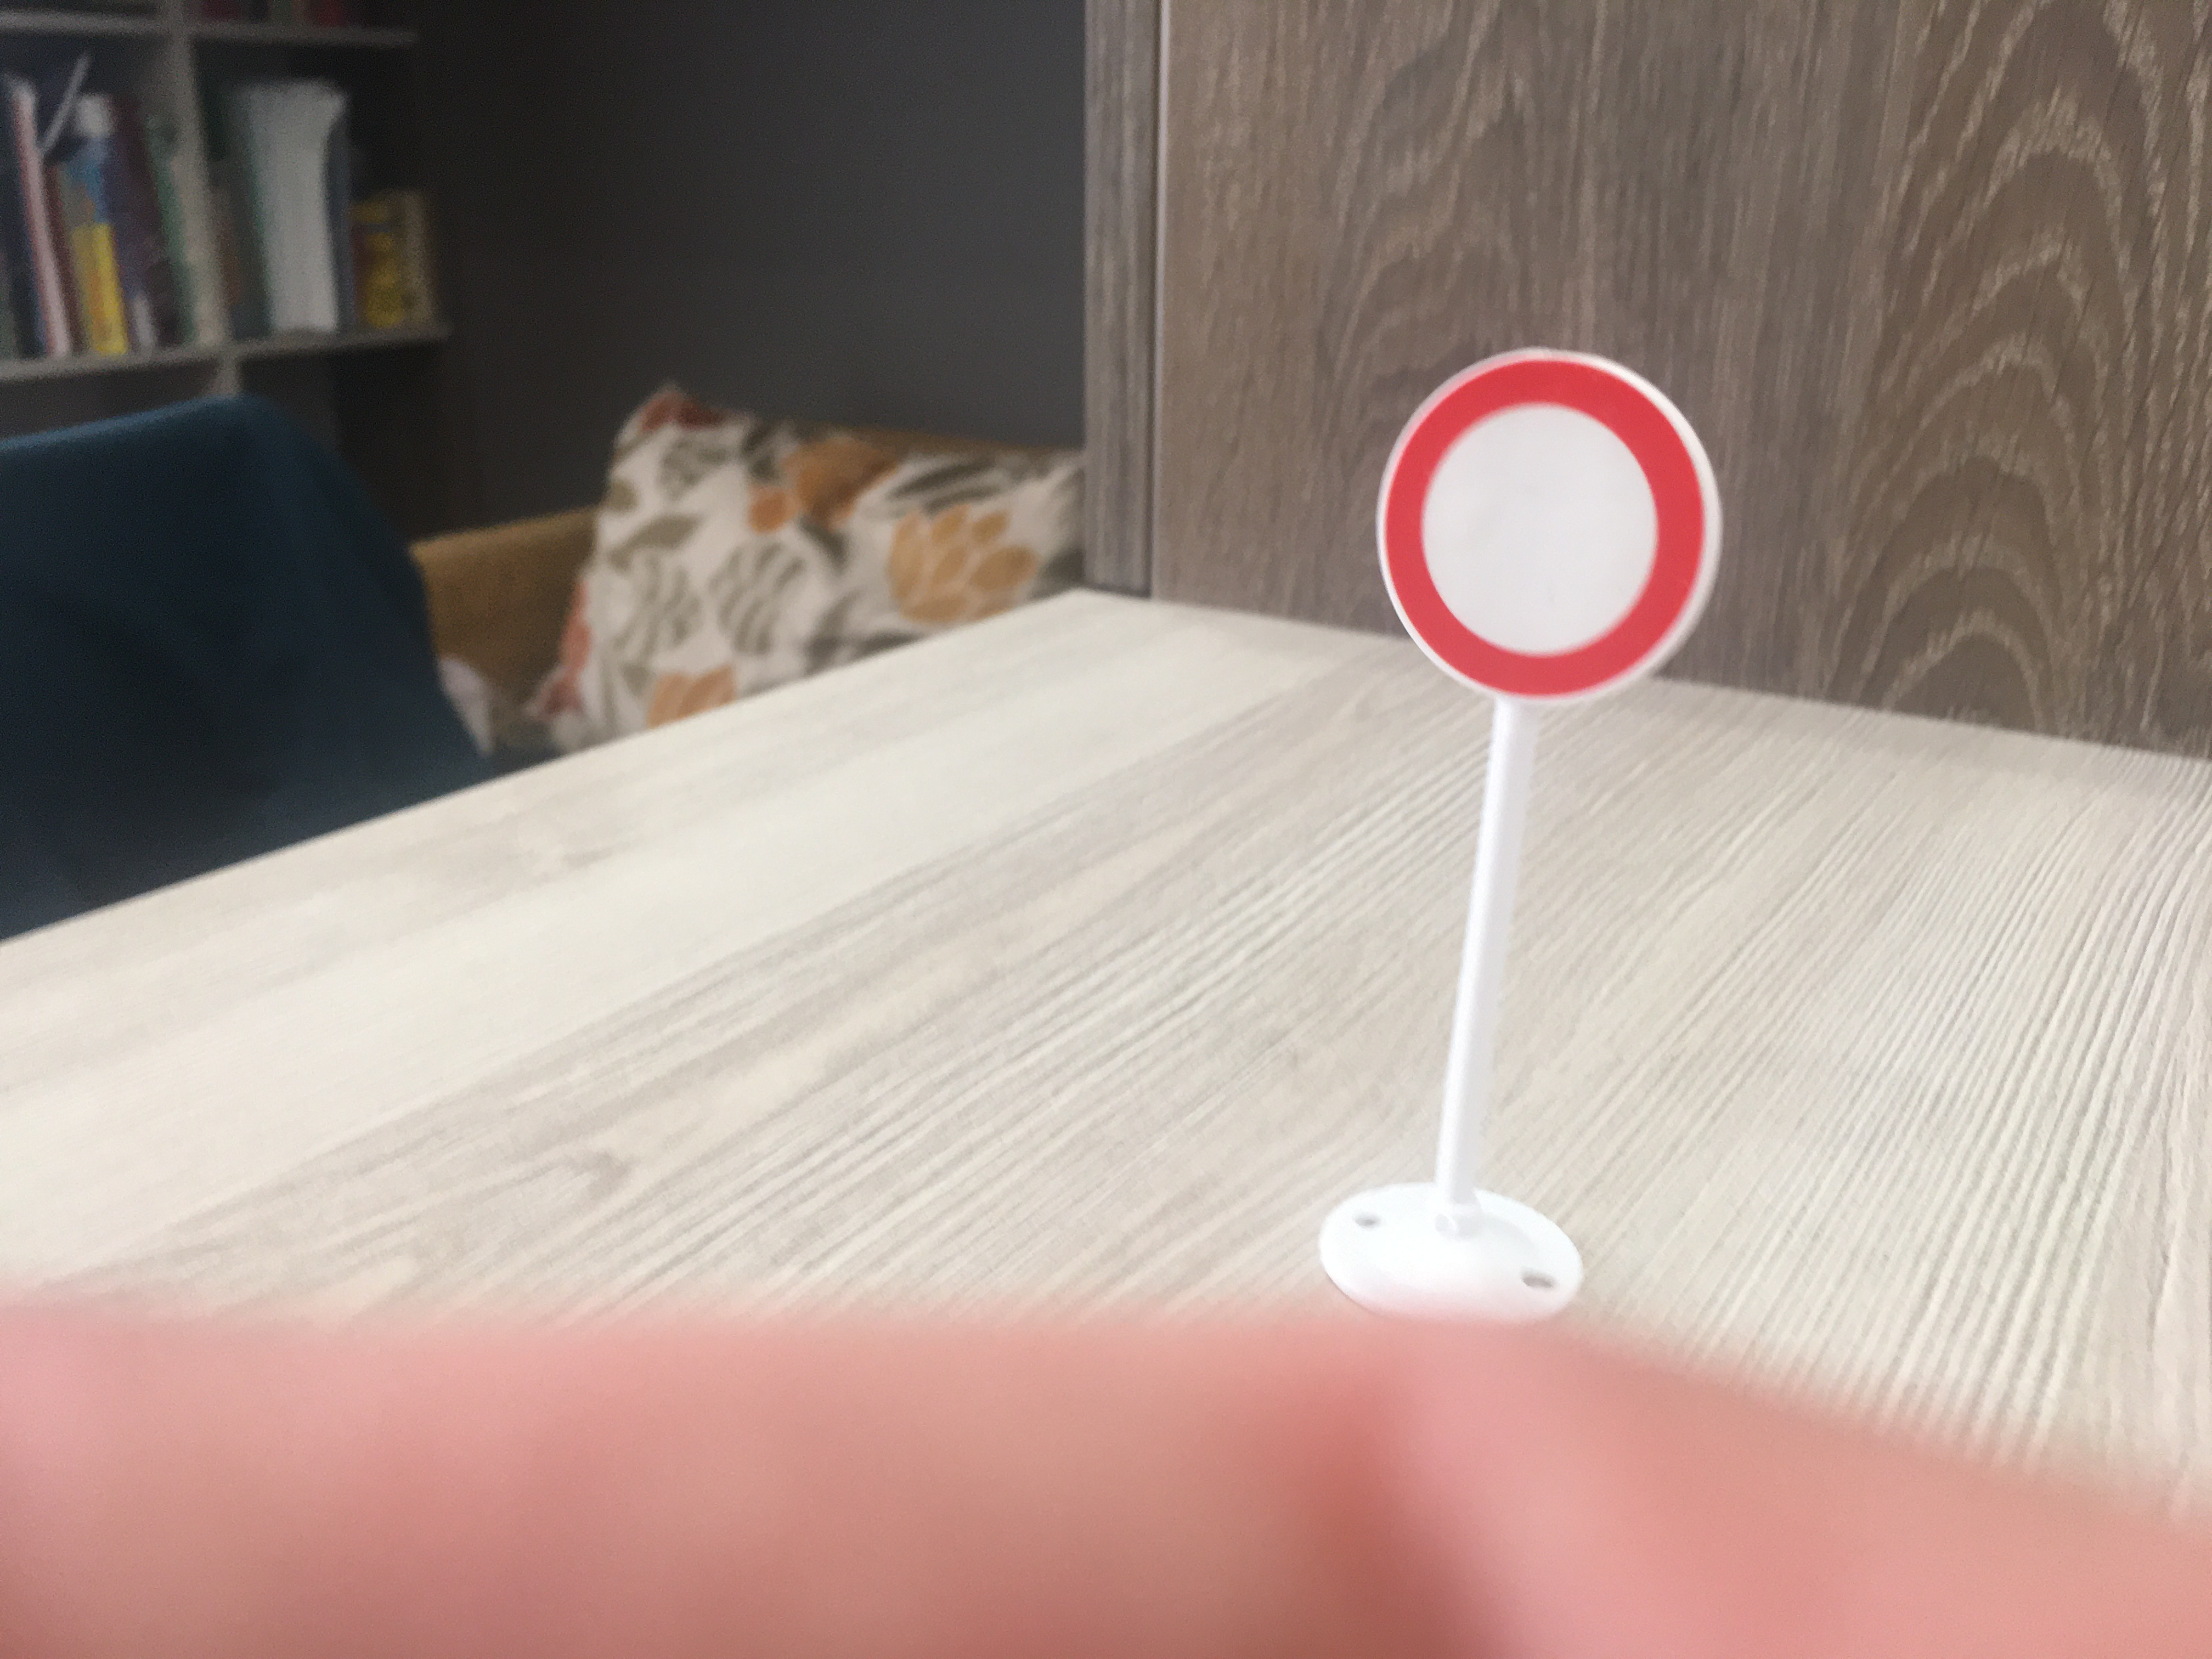noDrive: (1378, 359, 1719, 709)
